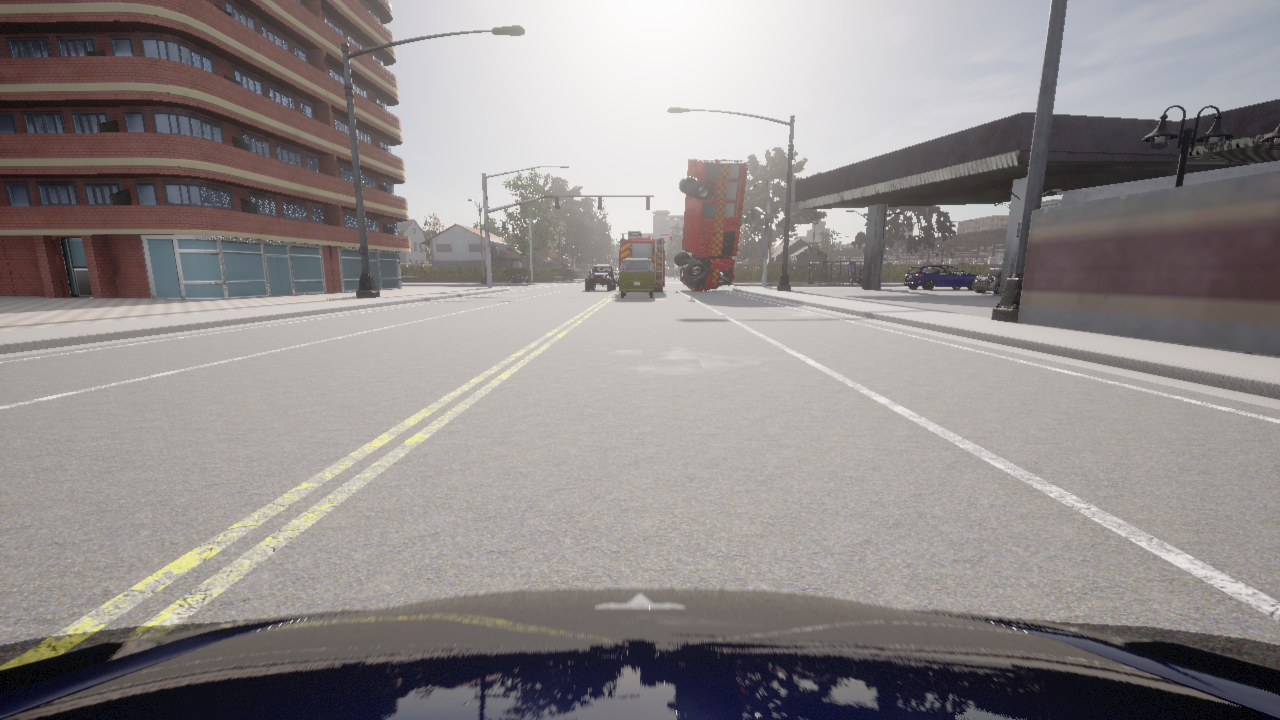cyclist: (0, 588, 1279, 719), (674, 158, 747, 291), (619, 231, 664, 292), (904, 265, 977, 289), (619, 258, 654, 297), (585, 265, 615, 290), (973, 268, 1001, 294), (508, 273, 527, 283), (850, 277, 861, 285), (613, 271, 618, 285)
